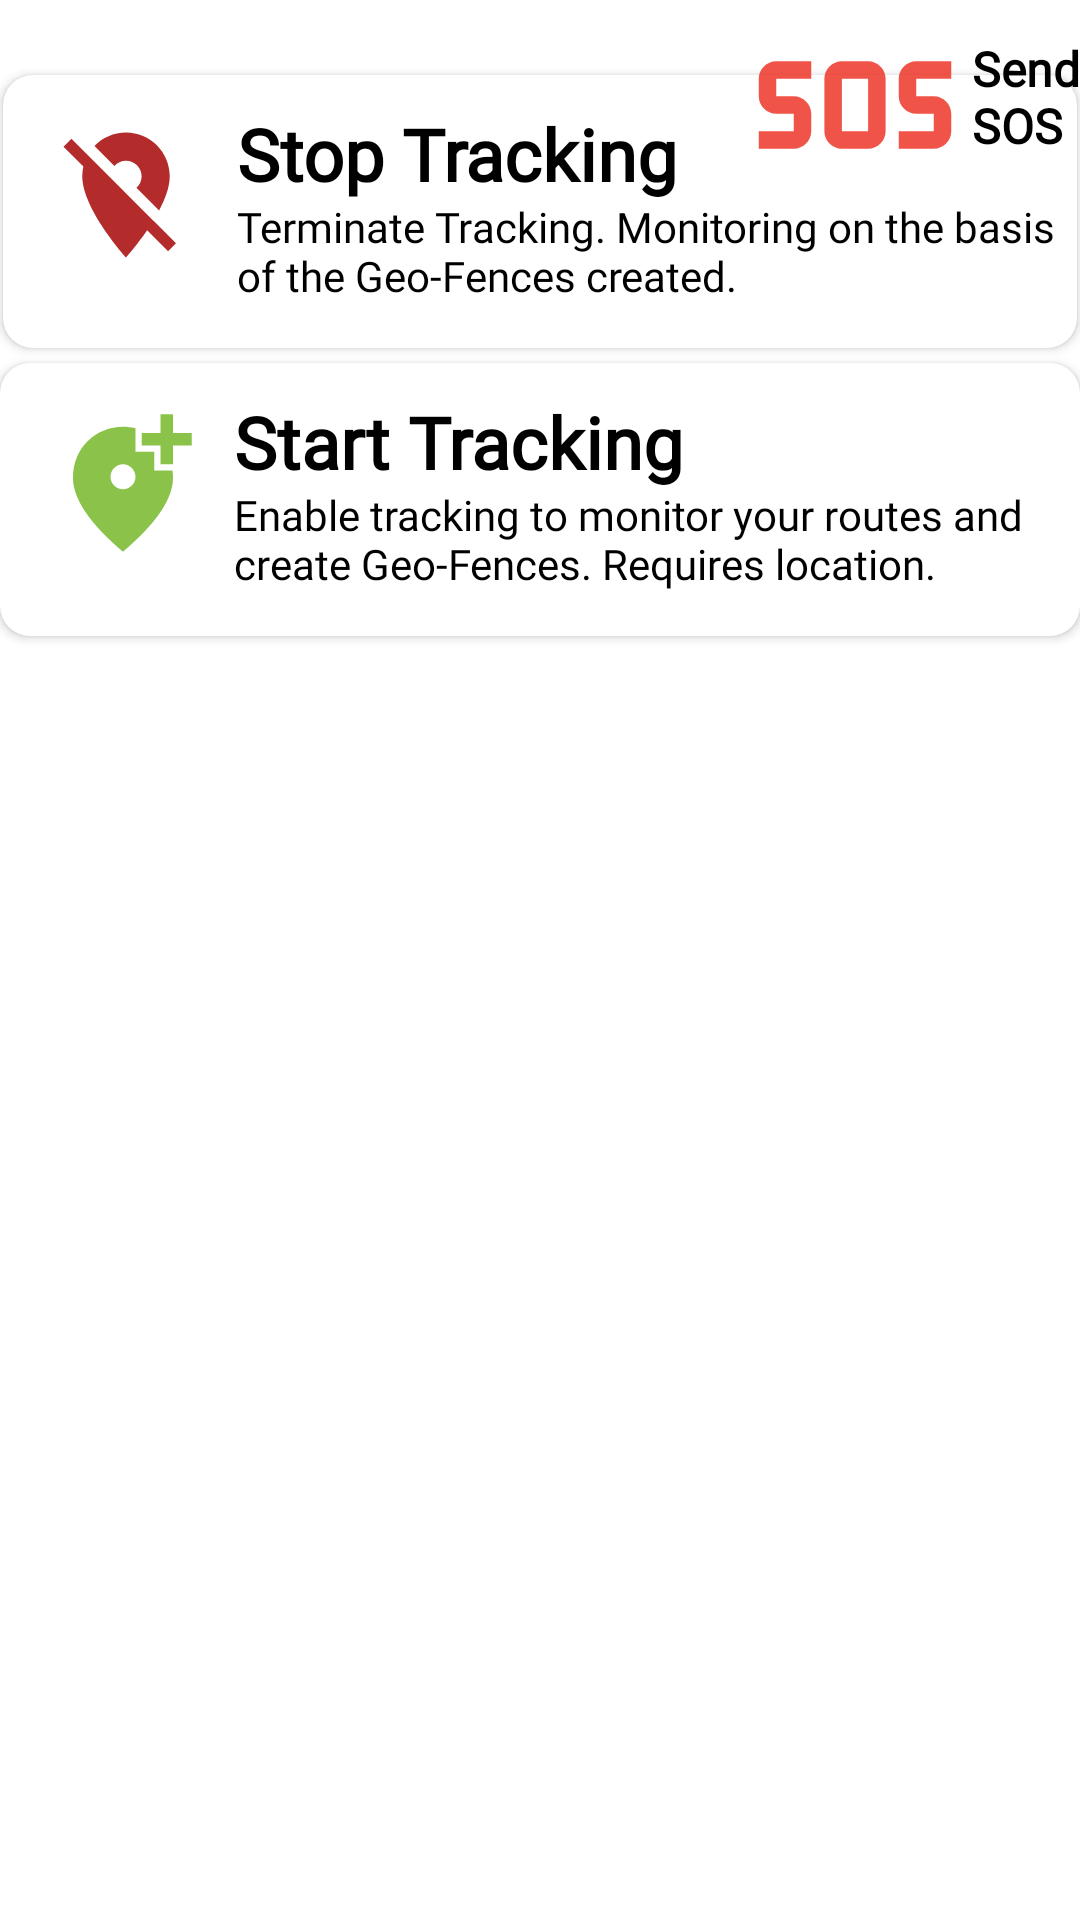

Named icons in this screenshot (1080w x 1920h) and their bounding boxes, detection(x1, y1, x2, y2):
add location: detection(73, 414, 192, 552)
location off: detection(63, 132, 176, 258)
